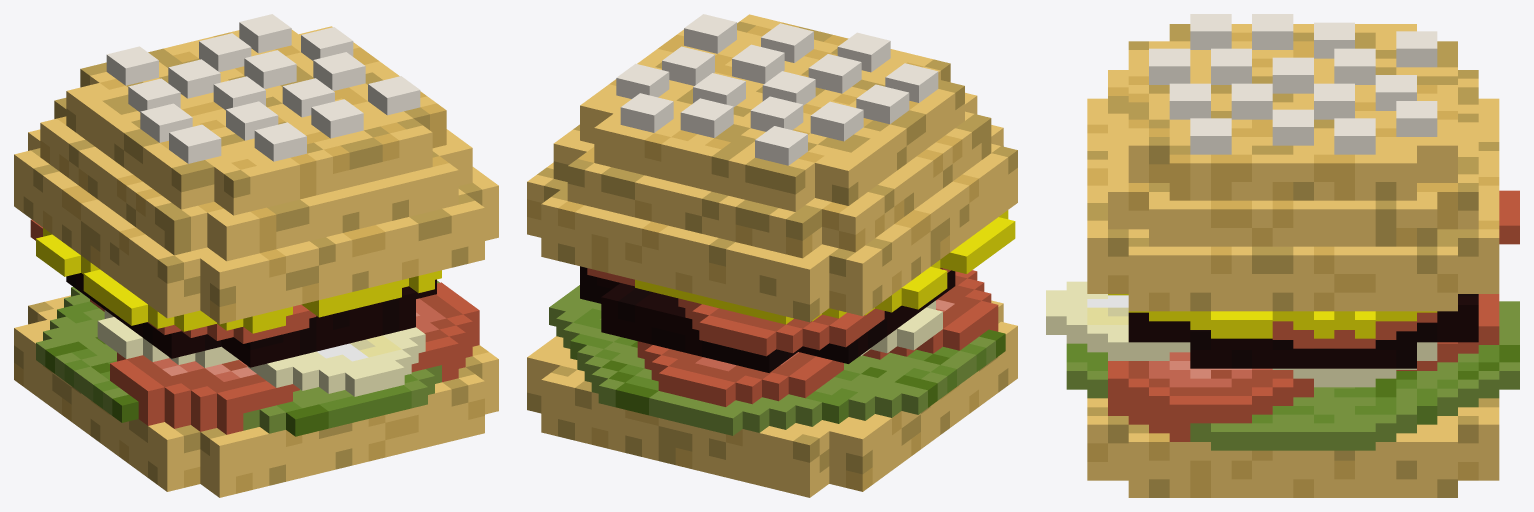
Rendered from Hamburguer.fbx.
3 renders of one model, left to right at view 1: azimuth 30°, elevation 25°; view 2: azimuth 150°, elevation 25°; view 3: azimuth 270°, elevation 25°, orthographic. The views are drawn at different scales.
Visible parts, largest first — view 1: Untitled; view 2: Untitled; view 3: Untitled.
Part boxes in pixels (x1,y1,x2,y2): Untitled: (14,14,498,497); Untitled: (527,14,1017,497); Untitled: (1046,14,1519,497).
Size of the model in its own units: 220 by 180 by 230.
1 material, 1 textured.
